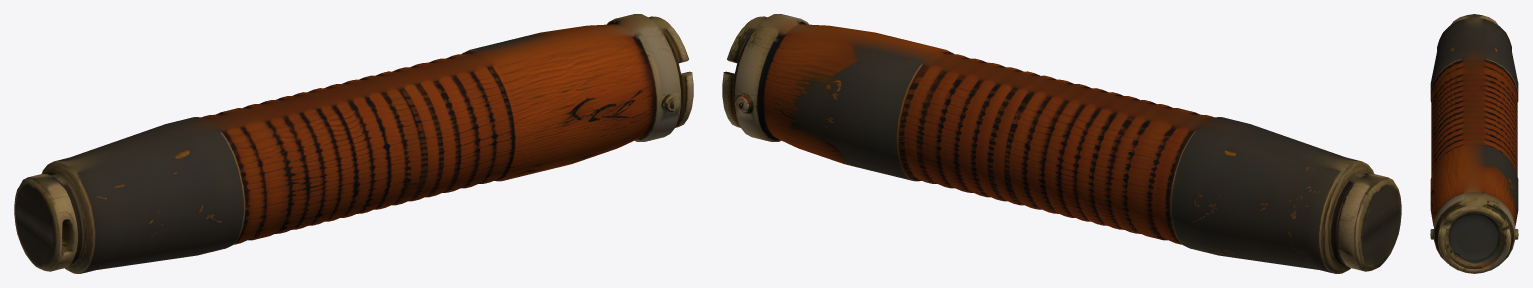
The model's file is shotgun_pump.glb.
3 views of the same model, side by side, from view 1: azimuth 30°, elevation 25°; view 2: azimuth 150°, elevation 25°; view 3: azimuth 270°, elevation 25° (orthographic). The views are drawn at different scales.
Parts seen in each view (by area): view 1: texture_pbr_v128; view 2: texture_pbr_v128; view 3: texture_pbr_v128.
Part boxes in pixels (x1,y1,x2,y2): texture_pbr_v128: (14, 14, 693, 273); texture_pbr_v128: (722, 14, 1401, 273); texture_pbr_v128: (1430, 14, 1518, 273).
Size of the model in its own units: 1.19 by 0.2198 by 0.2217.
Materials: 1 (1 with a texture image).
